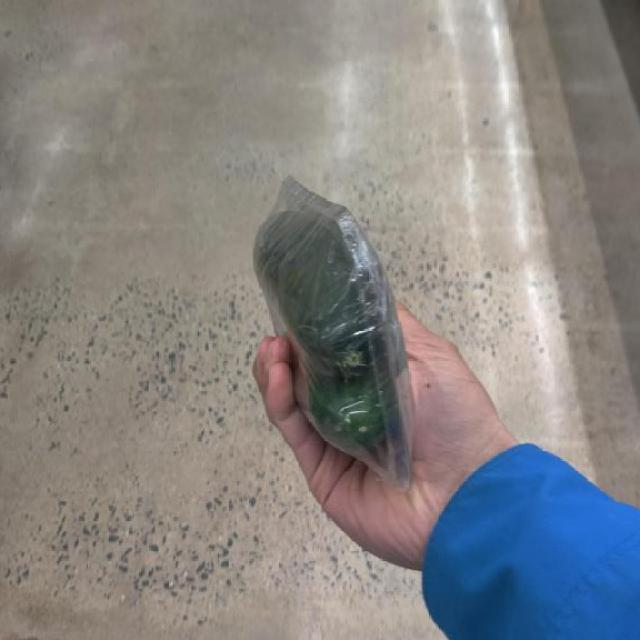Cucumber: (229, 163, 422, 499)
